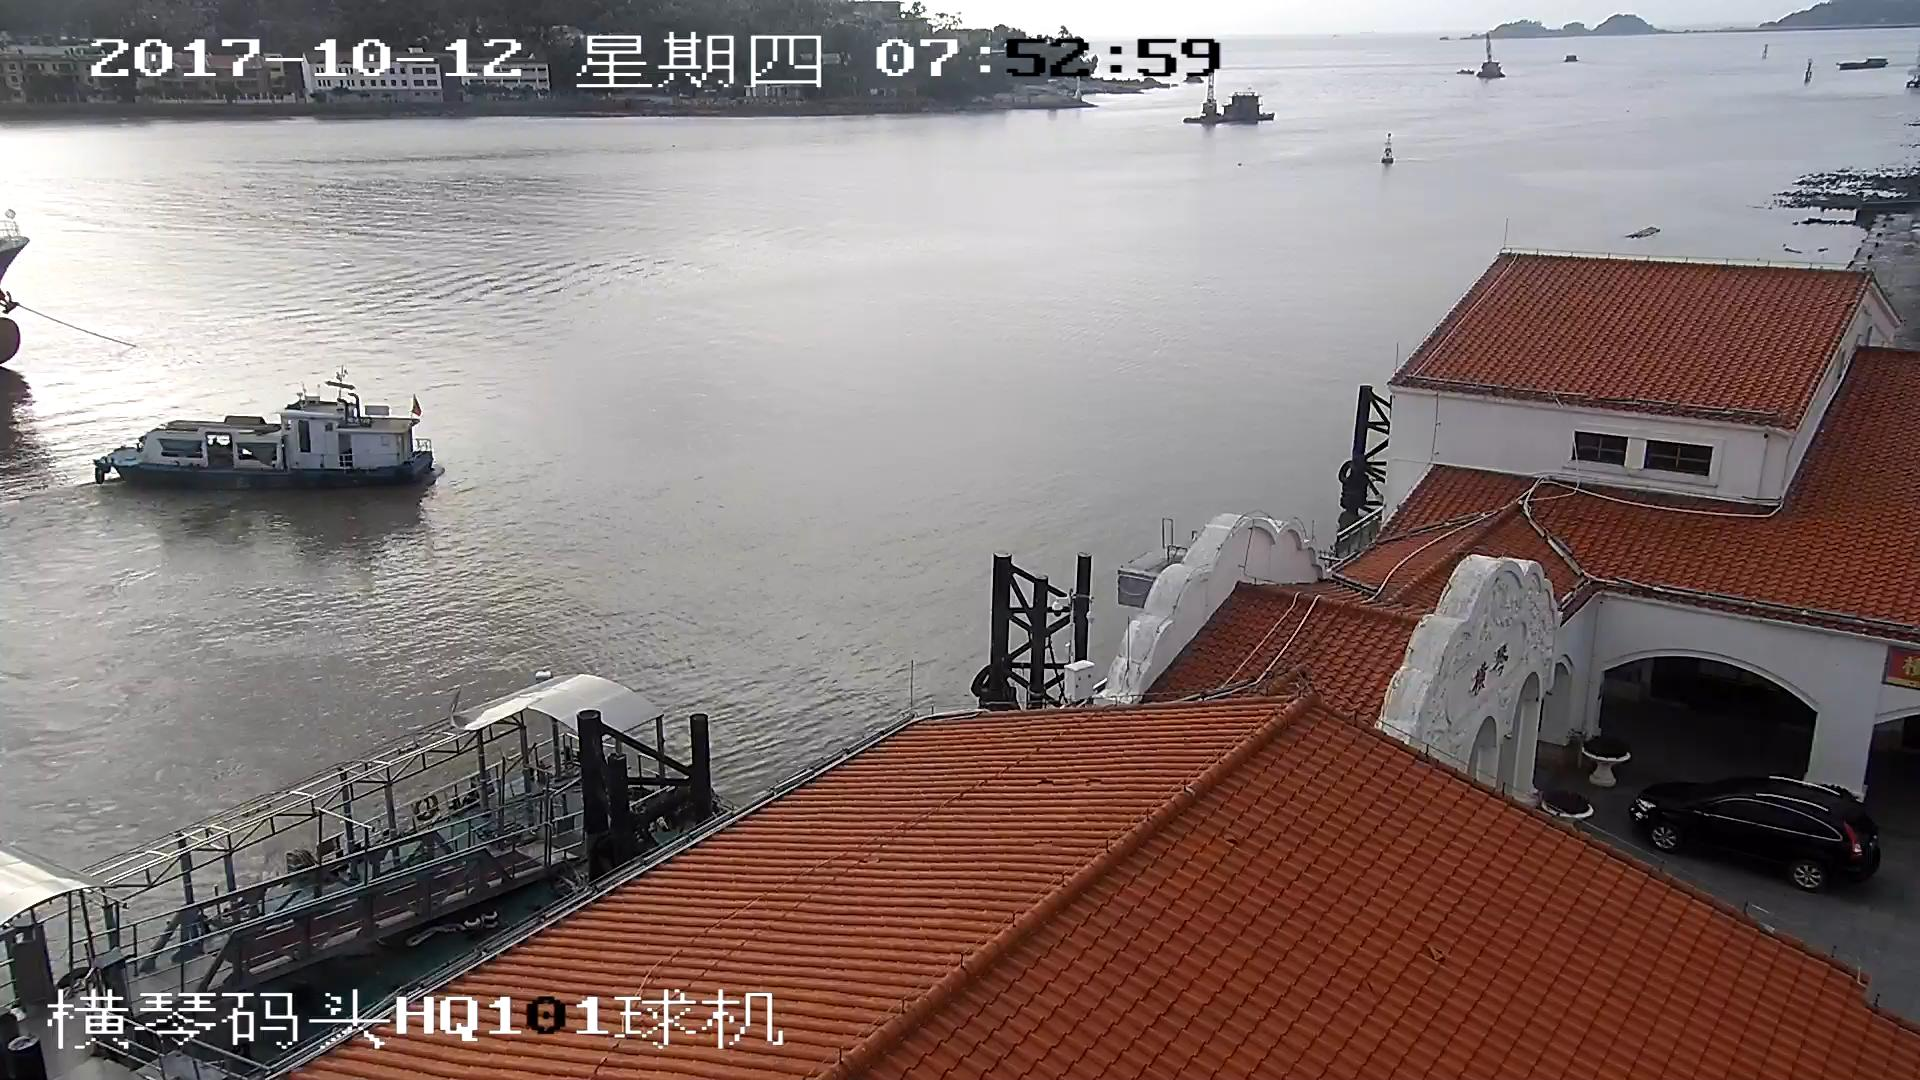fishing boat: (86, 381, 434, 486)
